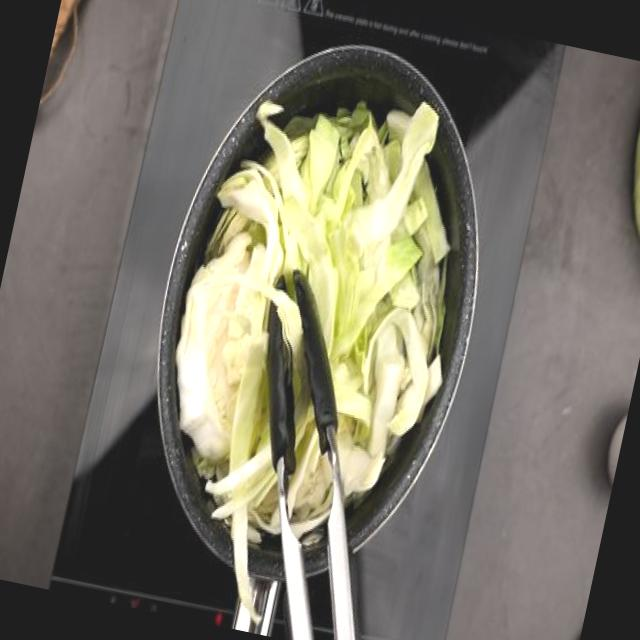bap cai luoc: (174, 100, 449, 620)
